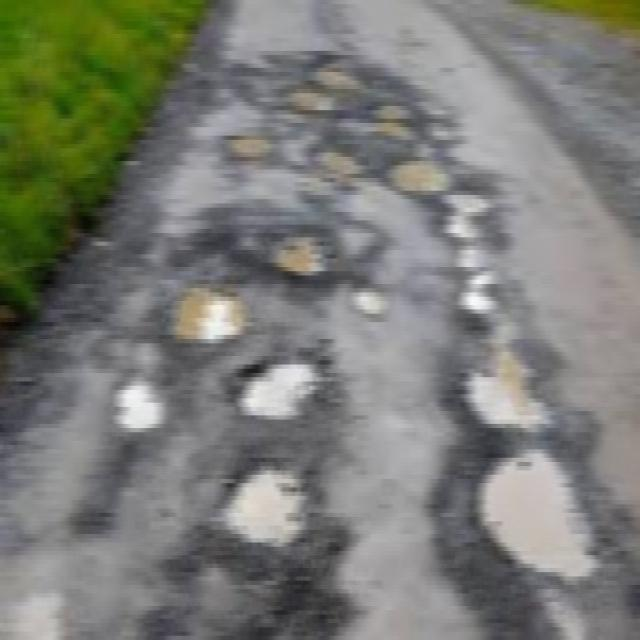Pothole: (428, 189, 568, 434), (472, 444, 611, 584), (213, 448, 314, 551), (227, 347, 330, 428), (151, 284, 255, 352), (110, 368, 174, 441), (262, 217, 328, 281), (339, 105, 439, 145), (379, 150, 462, 198), (302, 144, 380, 192), (223, 128, 284, 166)
